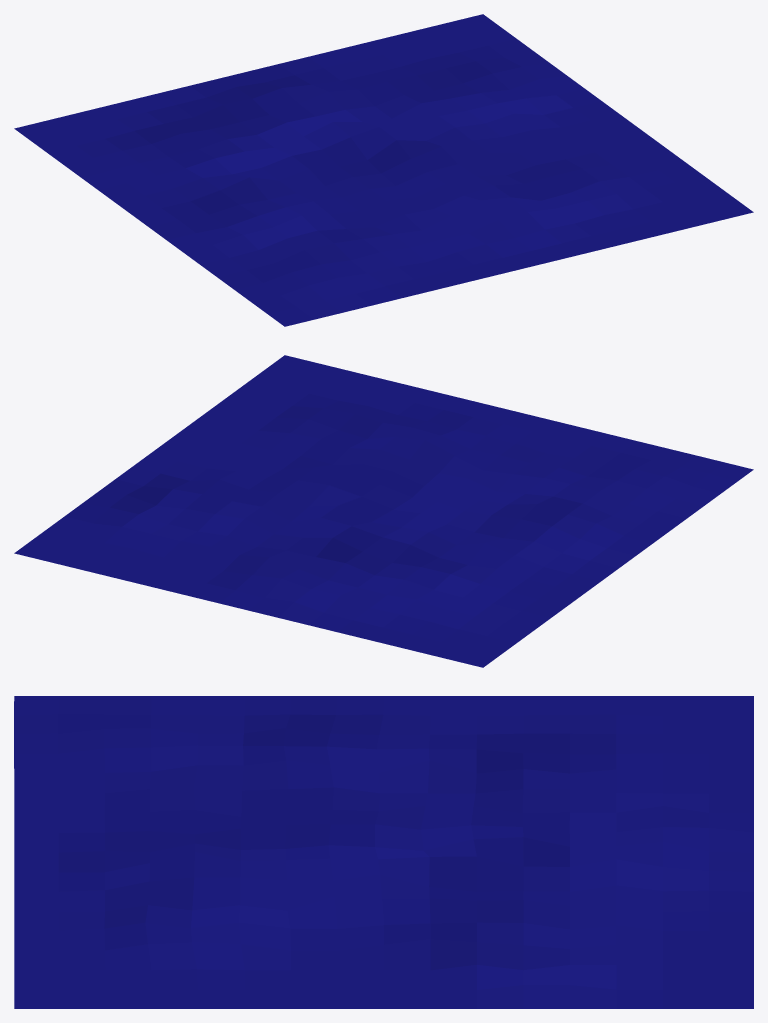
Rendered from Water2.FBX.
3 renders of one model, top to bottom at view 1: azimuth 30°, elevation 25°; view 2: azimuth 150°, elevation 25°; view 3: azimuth 270°, elevation 25°, orthographic. The views are drawn at different scales.
Visible parts, largest first — view 1: Terrain.001; view 2: Terrain.001; view 3: Terrain.001.
Part boxes in pixels (box(x1,y1,x2,y2)): Terrain.001: box(14, 14, 753, 326); Terrain.001: box(14, 355, 753, 667); Terrain.001: box(14, 696, 753, 1008).
Size of the model in its own units: 800 by 800 by 28.39.
